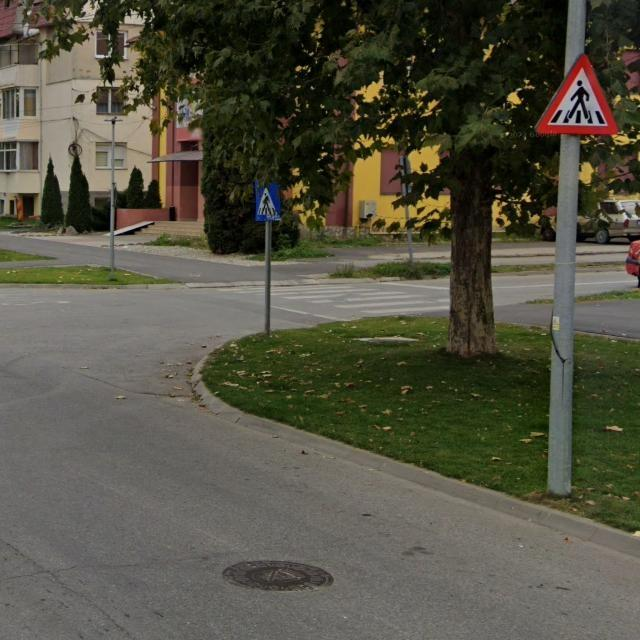info_crosswalk: (254, 178, 283, 223)
warn_crosswalk: (537, 54, 619, 136)
